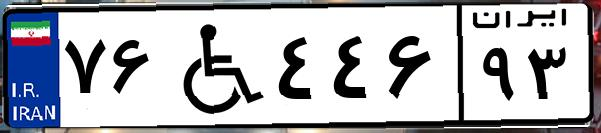3: (525, 38, 570, 115)
4: (270, 28, 330, 110), (330, 28, 385, 110)
6: (385, 28, 445, 110), (110, 28, 158, 98)
7: (57, 26, 110, 100)
9: (475, 38, 525, 113)
ژ (معلولین و جانبازان): (158, 12, 270, 120)
